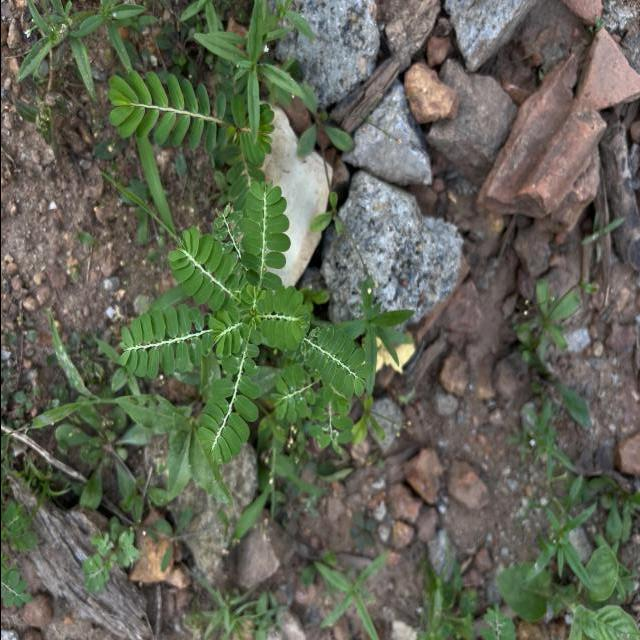Phyllanthus niruri: (105, 68, 220, 154), (193, 348, 263, 468), (116, 306, 208, 382), (167, 226, 240, 313), (301, 322, 374, 402), (238, 178, 292, 284), (252, 284, 312, 352)
